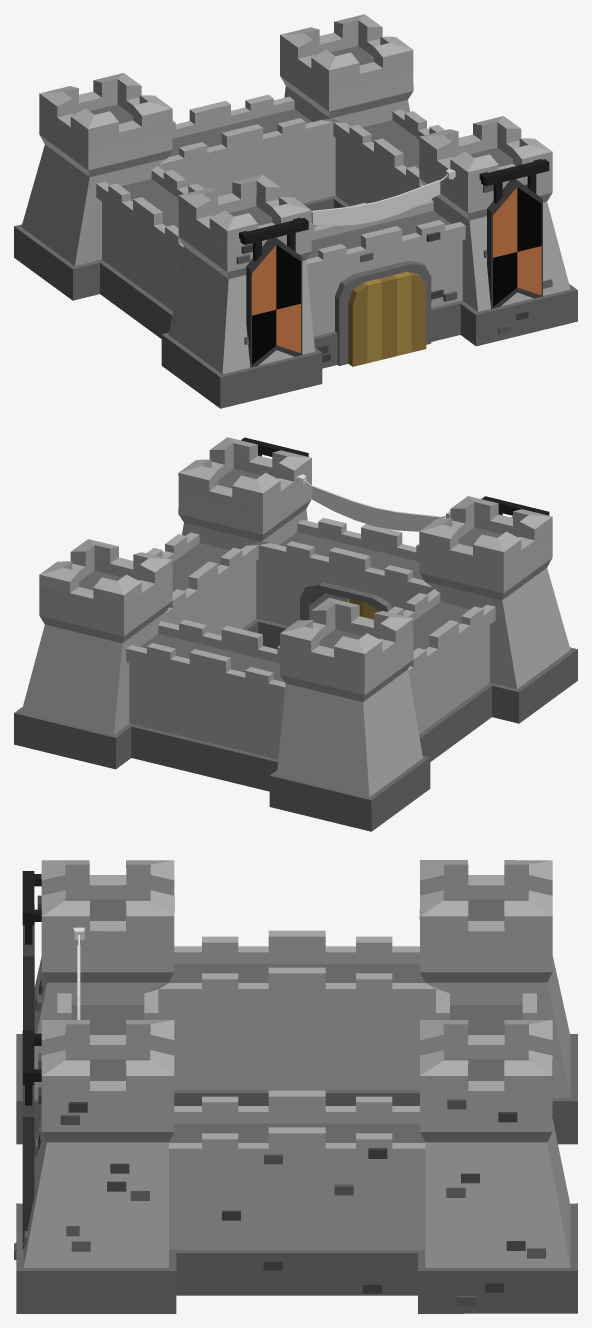
File: ClosedCastleWithBannerTest.fbx
3 renders of one model, top to bottom at view 1: azimuth 30°, elevation 25°; view 2: azimuth 150°, elevation 25°; view 3: azimuth 270°, elevation 25°, orthographic. The views are drawn at different scales.
Parts seen in each view (by area): view 1: Cube.003, Cube.008, Banner, Banner1, Cube, Cube.005, BannerPole; view 2: Cube.003, Cube; view 3: Cube.003, Banner1, Banner, Cube.005, BannerPole.
Part boxes in pixels (x1,y1,x2,y2): Cube.003: [14, 14, 577, 408]; Cube.008: [348, 271, 426, 366]; Banner: [246, 237, 302, 367]; Banner1: [487, 179, 542, 308]; Cube: [311, 168, 455, 225]; Cube.005: [479, 159, 549, 203]; BannerPole: [239, 217, 308, 261]; Cube.003: [14, 437, 577, 831]; Cube: [296, 474, 450, 531]; Cube.003: [14, 860, 577, 1313]; Banner1: [22, 1085, 34, 1249]; Banner: [23, 905, 34, 1033]; Cube.005: [22, 1030, 41, 1105]; BannerPole: [22, 871, 41, 944].
Size of the model in its own units: 10.81 by 4.92 by 10.81.
